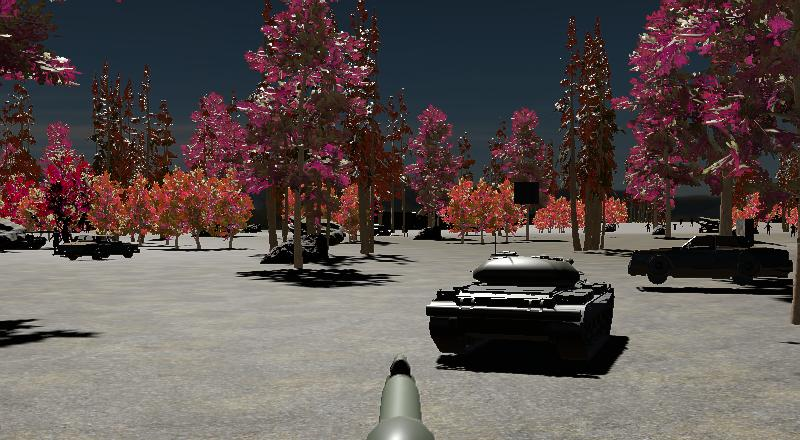Tank: (425, 250, 616, 364)
car: (626, 230, 791, 287), (60, 230, 140, 261)
